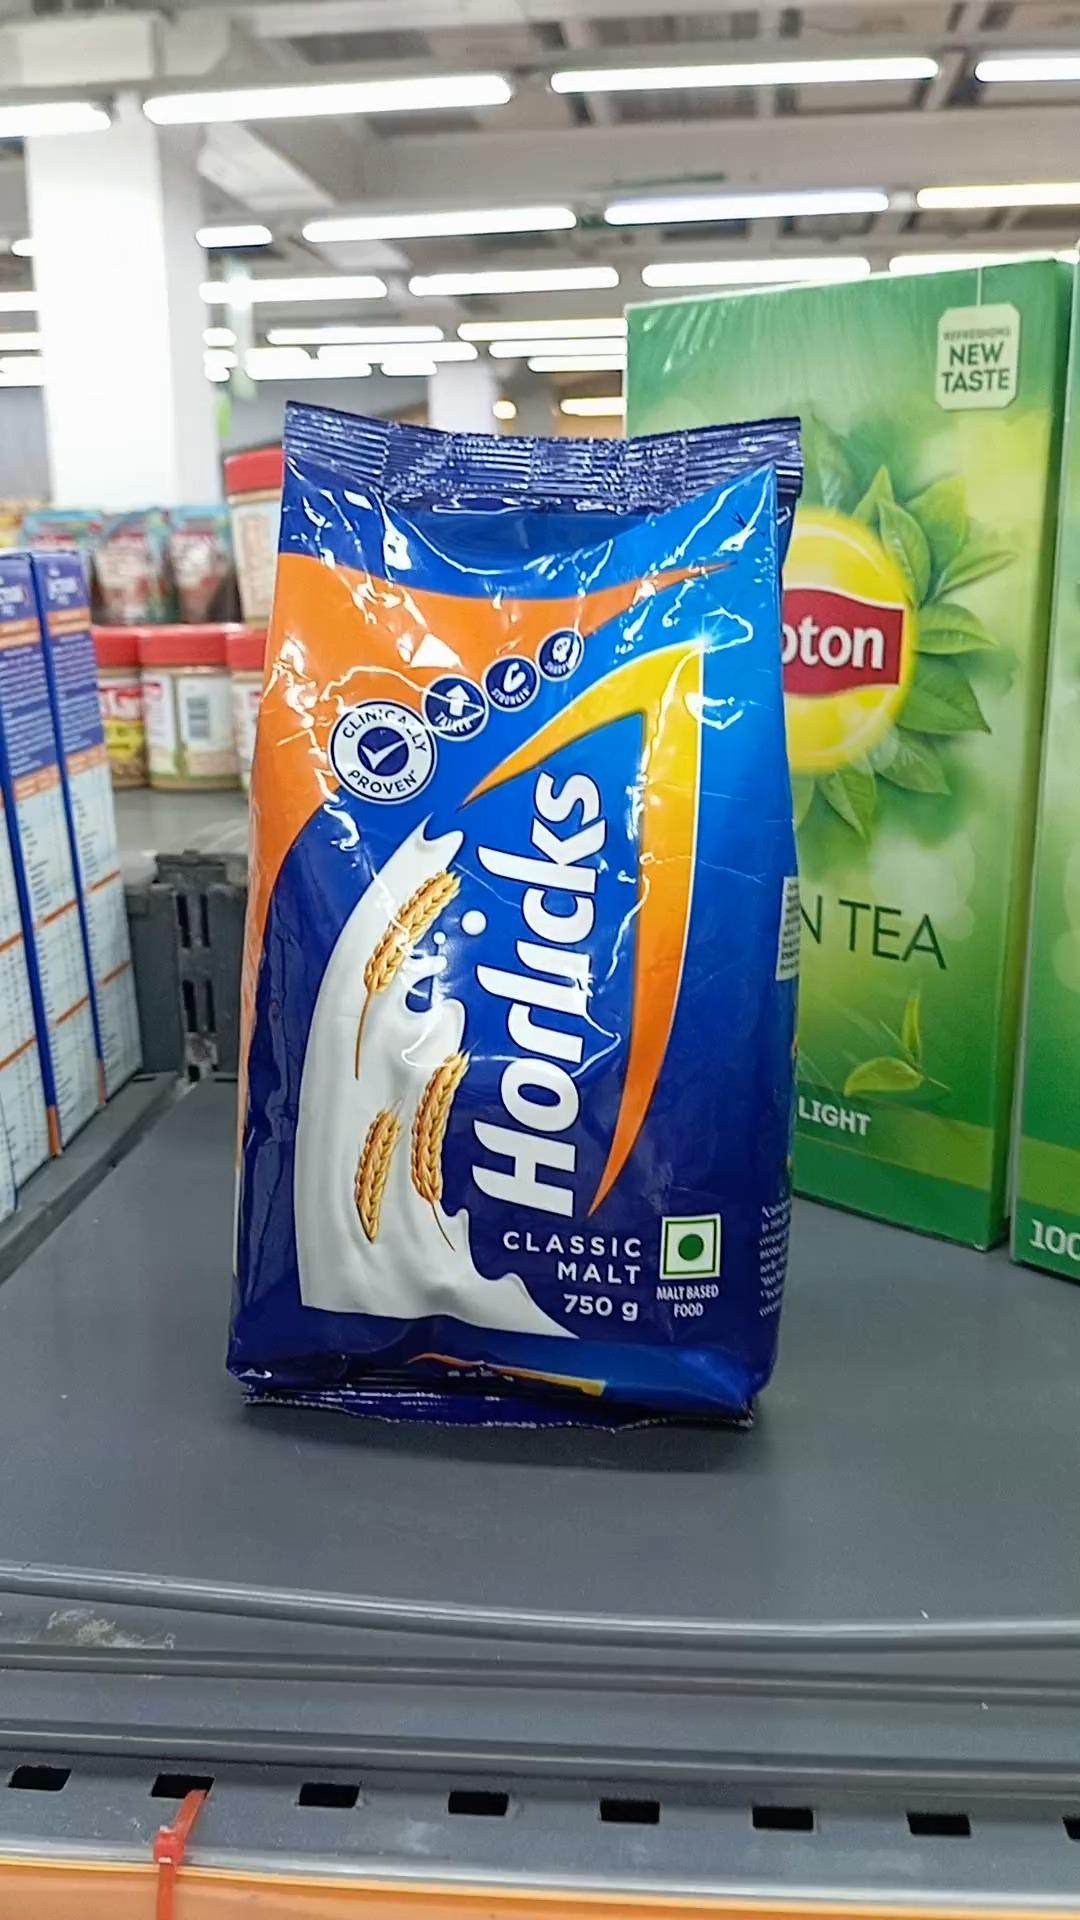HORLICK_CLASSIC_MALT_750_G_POUCH: (247, 396, 779, 1410)
